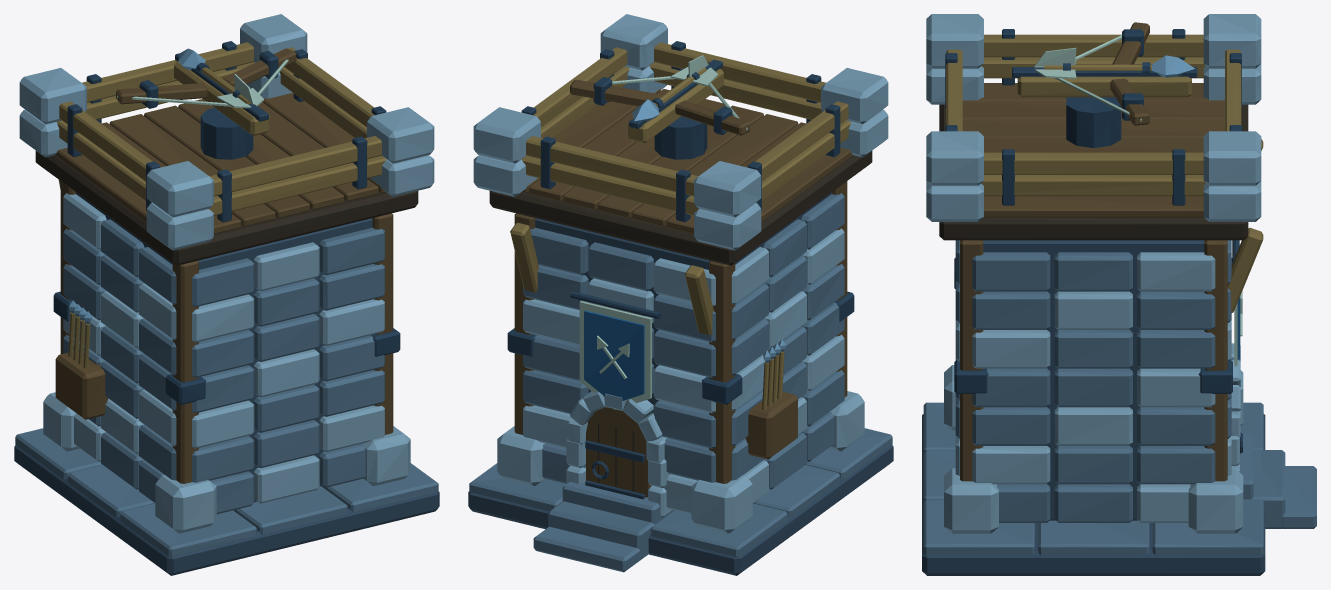
The model's file is tower_archer_level_2.glb.
3 renders of one model, left to right at view 1: azimuth 30°, elevation 25°; view 2: azimuth 150°, elevation 25°; view 3: azimuth 270°, elevation 25°, orthographic. The views are drawn at different scales.
Parts seen in each view (by area): view 1: body, ballista, aim_pivot, loaded_bolt; view 2: body, ballista, aim_pivot, loaded_bolt; view 3: body, ballista, aim_pivot, loaded_bolt.
Part boxes in pixels (x1,y1,x2,y2): body: (14,14,439,575); ballista: (115,48,296,135); aim_pivot: (200,107,253,159); loaded_bolt: (178,48,263,108); body: (468,14,893,575); ballista: (570,59,750,143); aim_pivot: (654,116,707,159); loaded_bolt: (632,55,717,121); body: (922,14,1316,575); ballista: (1012,22,1197,125); aim_pivot: (1066,97,1121,147); loaded_bolt: (1034,47,1195,79).
Bounding box in the file's own units: 2.5 × 3.68 × 2.88.
